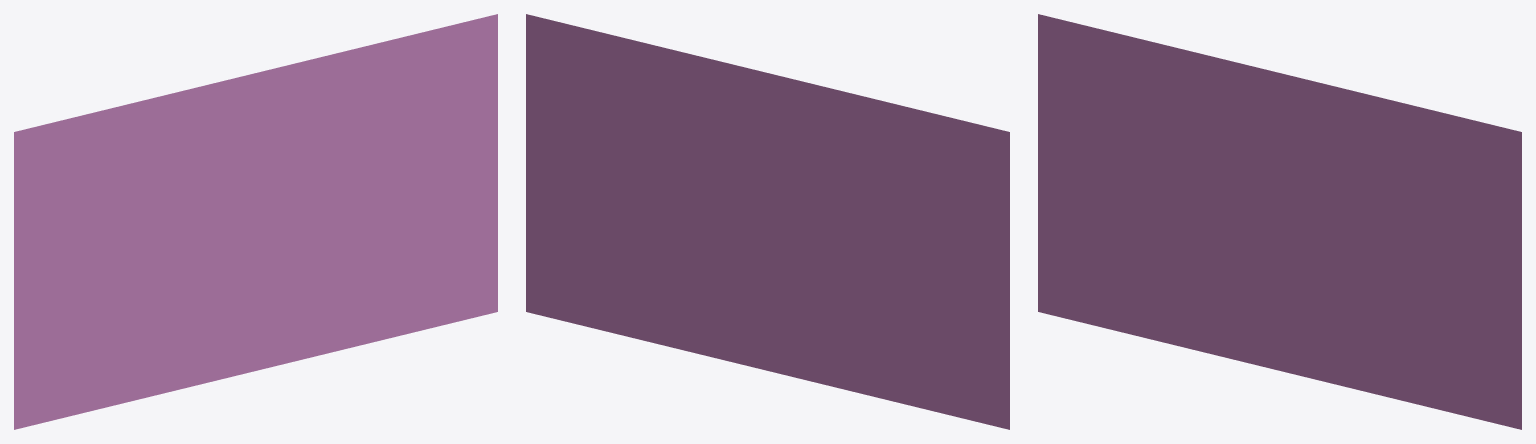
The model's file is Itr_Wall_Color_11.FBX.
3 renders of one model, left to right at view 1: azimuth 30°, elevation 25°; view 2: azimuth 150°, elevation 25°; view 3: azimuth 330°, elevation 25°, orthographic.
Visible parts, largest first — view 1: Itr_Wall_Color_11; view 2: Itr_Wall_Color_11; view 3: Itr_Wall_Color_11.
Boxes of the visible parts, bbox=[...] form: Itr_Wall_Color_11: bbox=[14, 14, 497, 429]; Itr_Wall_Color_11: bbox=[526, 14, 1009, 429]; Itr_Wall_Color_11: bbox=[1038, 14, 1521, 429].
Size of the model in its own units: 118 by 69.49 by 3.05e-05.
